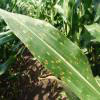Corn leaf blight: (1, 8, 99, 100)
